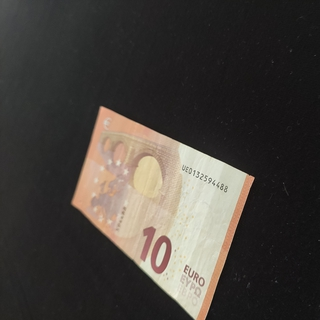10EUROBack: (69, 106, 254, 320)
